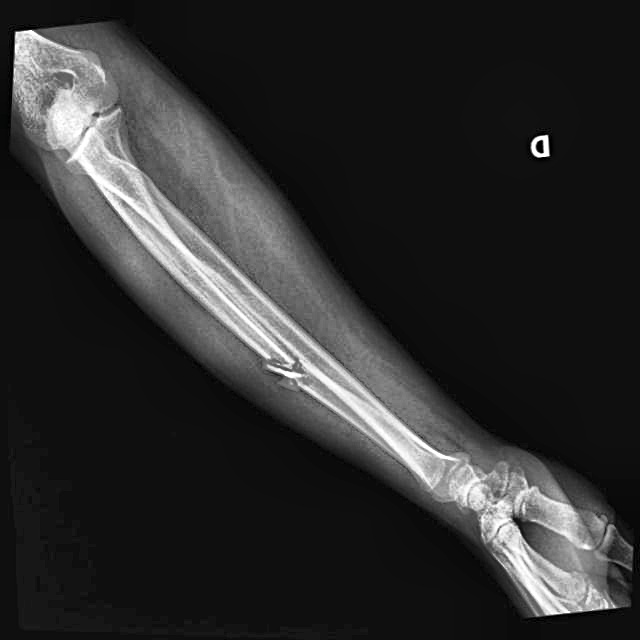Greenstick: (248, 334, 317, 402)
